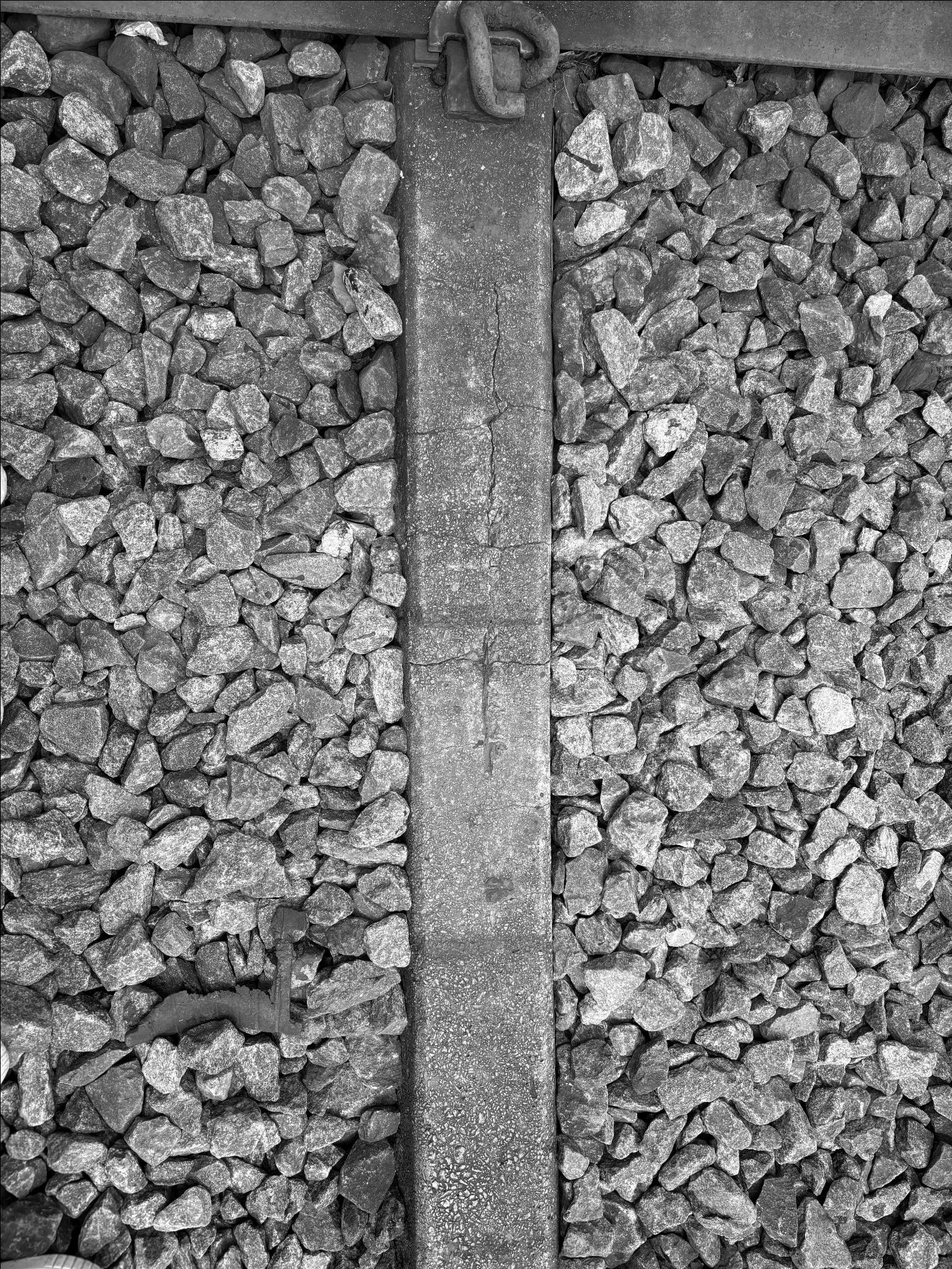cracks in midportion: (471, 286, 511, 971)
